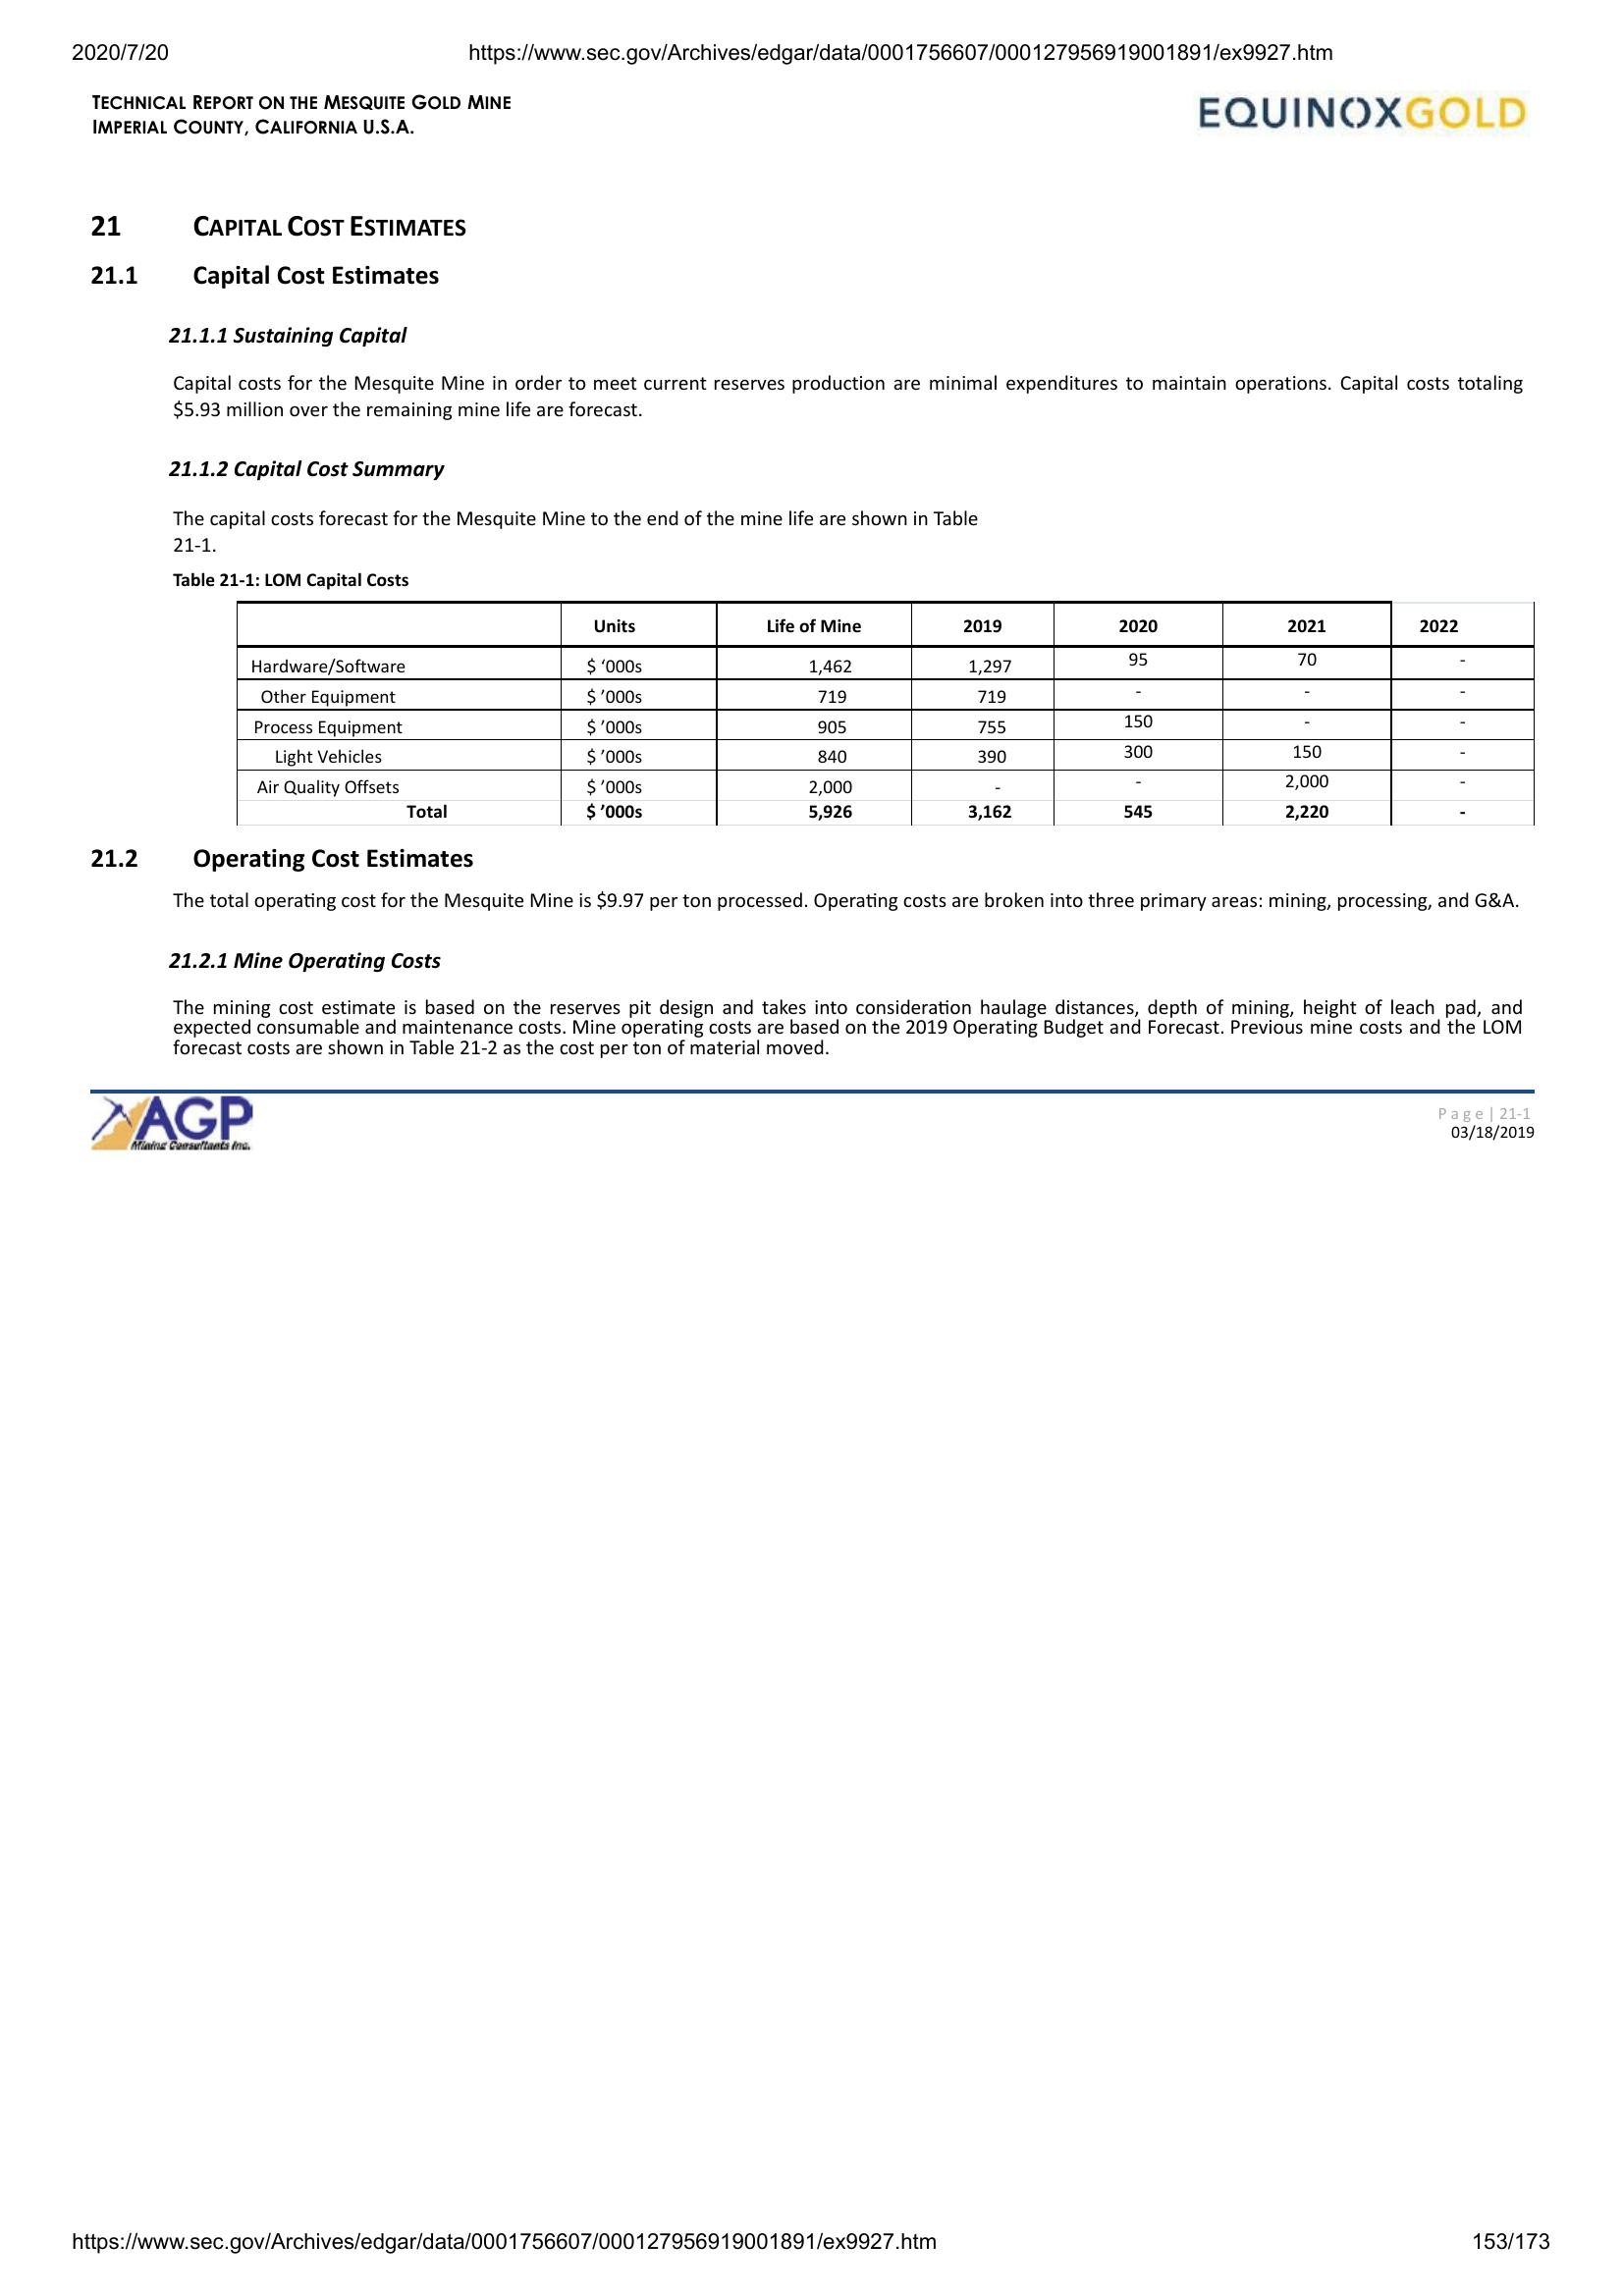table: (230, 595, 1540, 834)
